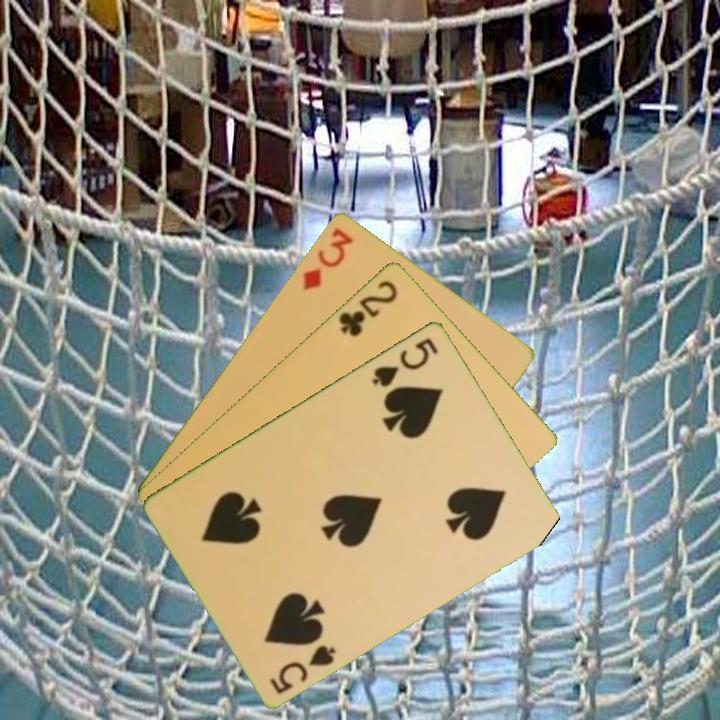2c: (335, 276, 401, 339)
3d: (299, 224, 356, 294)
5s: (266, 640, 339, 697), (368, 334, 442, 390)
